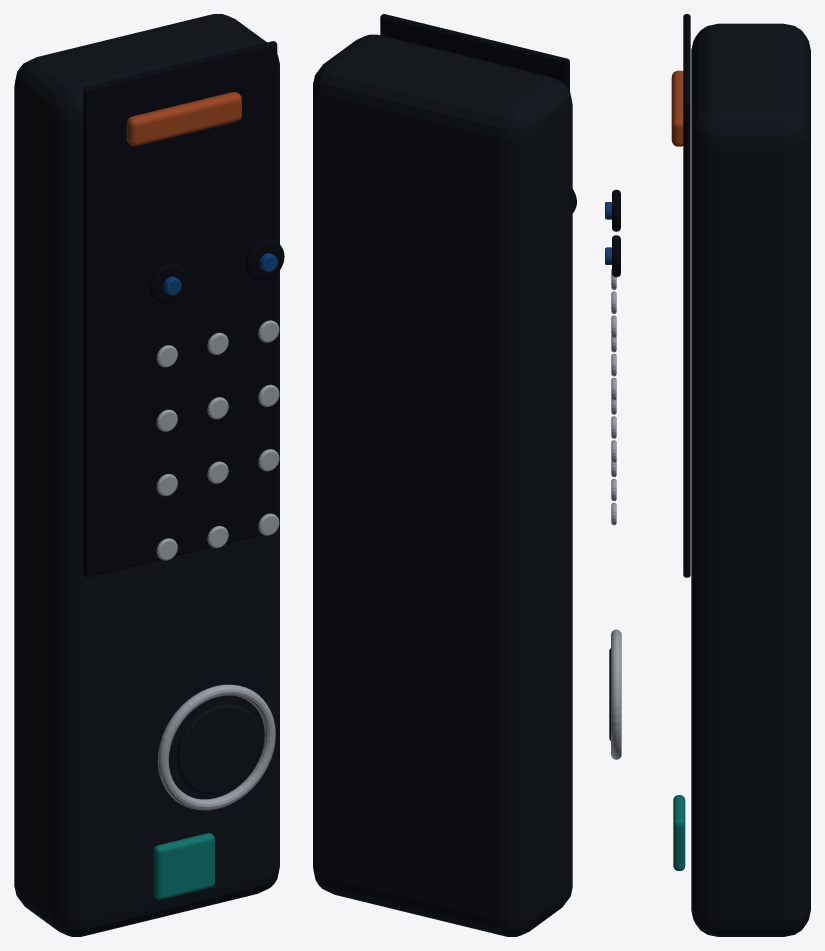
File: k80-f07d-sliding-smart-lock.glb
3 renders of one model, left to right at view 1: azimuth 30°, elevation 25°; view 2: azimuth 150°, elevation 25°; view 3: azimuth 270°, elevation 25°, orthographic. The views are drawn at different scales.
Visible parts, largest first — view 1: F07D outer shell, F07D sliding cover, Fingerprint sensor, Fingerprint ring, F07D copper slider, F07D doorbell, Face camera.001, Face camera; view 2: F07D outer shell, F07D sliding cover; view 3: F07D outer shell, F07D sliding cover, Fingerprint ring, F07D copper slider, F07D doorbell.
Part boxes in pixels (<box>): F07D outer shell: <box>14,14,279,936</box>; F07D sliding cover: <box>83,41,277,577</box>; Fingerprint sensor: <box>176,704,260,793</box>; Fingerprint ring: <box>157,684,275,810</box>; F07D copper slider: <box>126,92,241,146</box>; F07D doorbell: <box>153,833,214,899</box>; Face camera.001: <box>245,239,284,280</box>; Face camera: <box>149,262,188,303</box>; F07D outer shell: <box>313,34,572,936</box>; F07D sliding cover: <box>380,14,569,90</box>; F07D outer shell: <box>691,23,810,936</box>; F07D sliding cover: <box>683,14,690,577</box>; Fingerprint ring: <box>611,629,621,759</box>; F07D copper slider: <box>671,70,683,146</box>; F07D doorbell: <box>673,795,685,870</box>.
Size of the model in its own units: 0.084 by 0.3075 by 0.0688.
